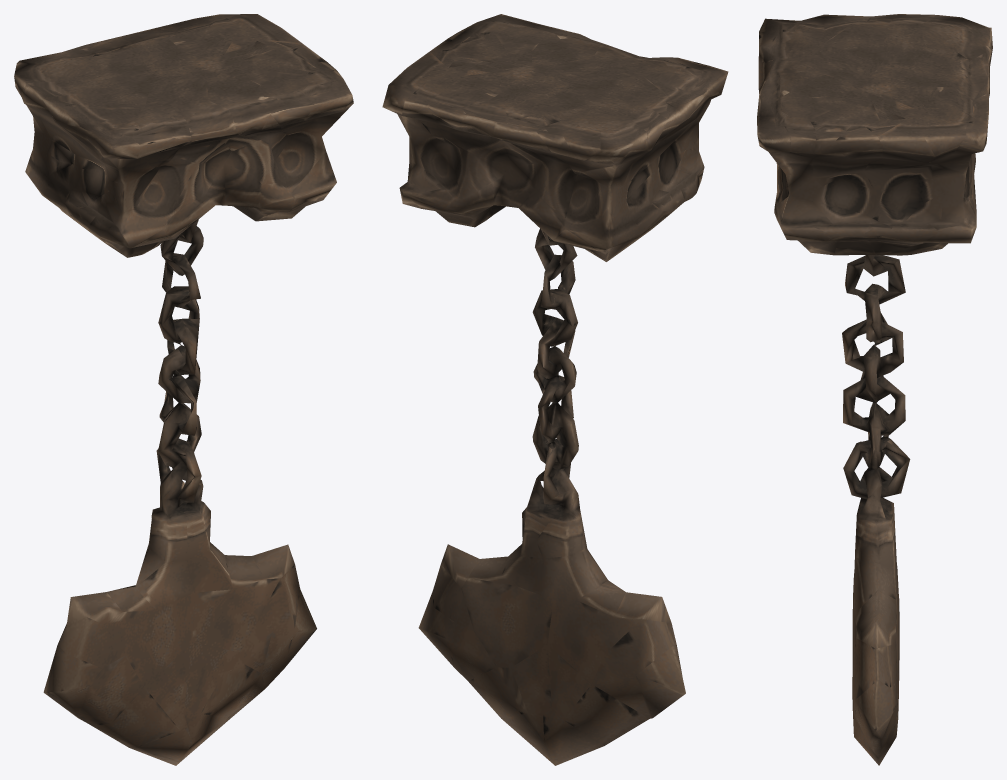
The model's file is swinging_blade.glb.
3 renders of one model, left to right at view 1: azimuth 30°, elevation 25°; view 2: azimuth 150°, elevation 25°; view 3: azimuth 270°, elevation 25°, orthographic.
Size of the model in its own units: 0.8216 by 2 by 0.6167.
Materials: 1 (1 with a texture image).
